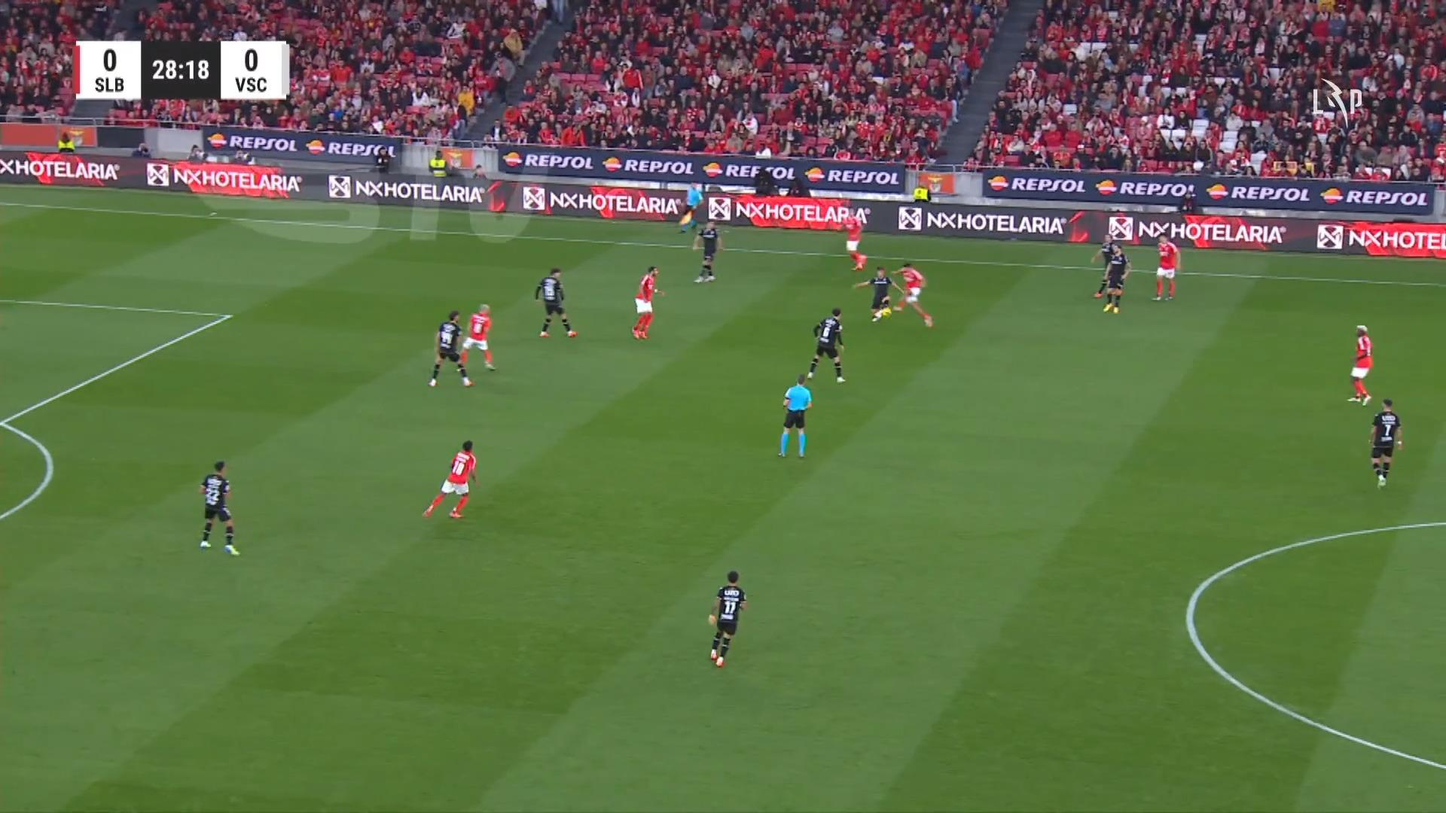ball: (882, 307, 892, 318), (709, 650, 717, 659)
player: (421, 440, 478, 519), (198, 459, 240, 556), (707, 570, 747, 667), (427, 309, 473, 387), (1367, 397, 1403, 488), (805, 306, 847, 382), (534, 267, 578, 338), (890, 261, 933, 327), (457, 303, 496, 372), (630, 265, 665, 340), (853, 265, 894, 322), (1347, 324, 1374, 406), (691, 219, 723, 282), (1102, 245, 1130, 313), (840, 205, 869, 270), (1152, 232, 1179, 300), (1090, 233, 1118, 298)
referee: (776, 373, 812, 458), (677, 183, 703, 233)
